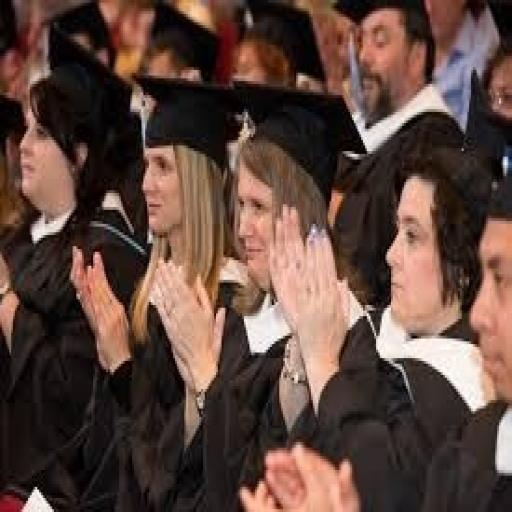clapping: (2, 3, 508, 509)
